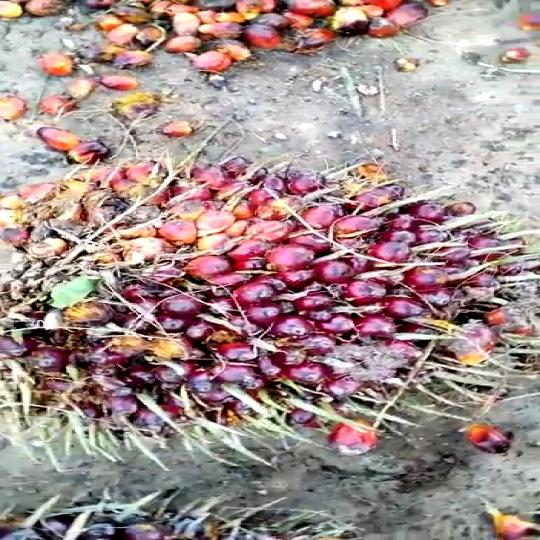masak: (0, 154, 540, 463)
